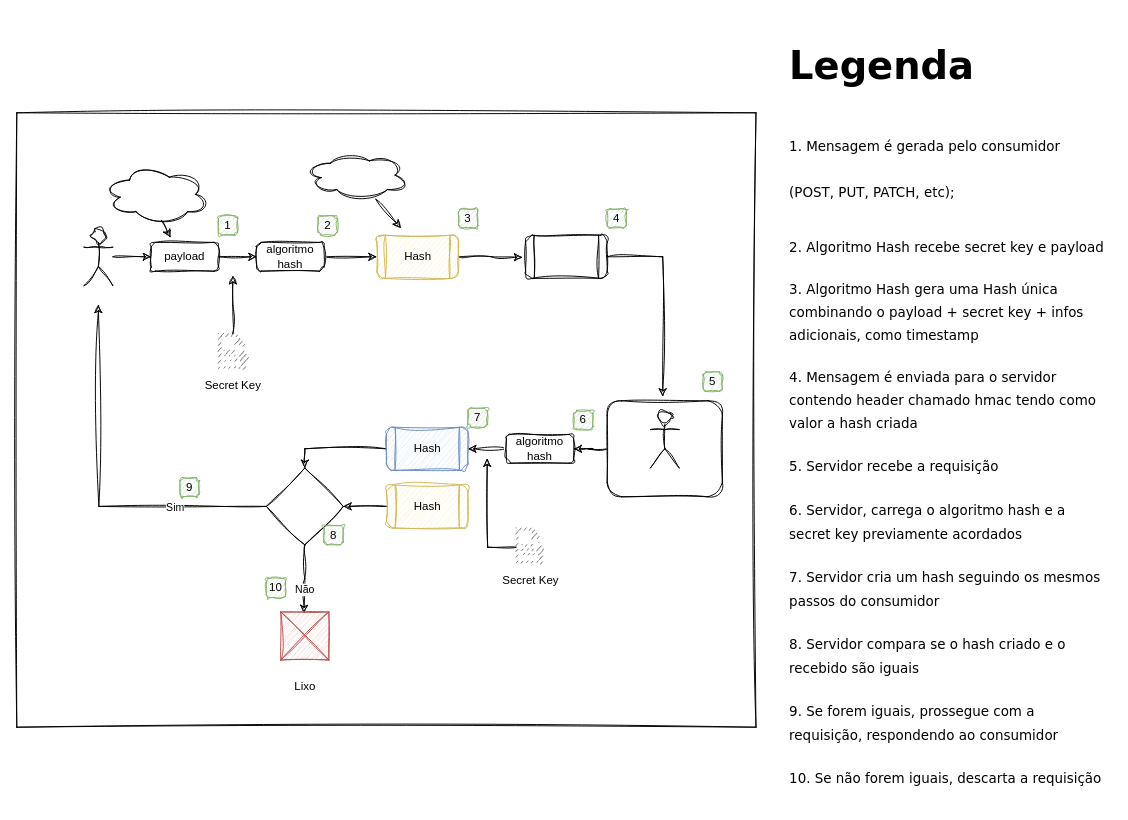
Some shapes in this 1128 by 820 pixel diagram are drawn without their labels. Here are the shapes that lost their labels. From the top down, the box of each, then its label:
(102, 165, 209, 223): tamanho variável
(304, 150, 408, 199): tamanho fixo
(83, 227, 113, 286): Consumidor
(525, 234, 607, 278): Hash no header + payload
(649, 409, 679, 468): Servidor / Provedor
(265, 467, 343, 545): Hash é igual?
